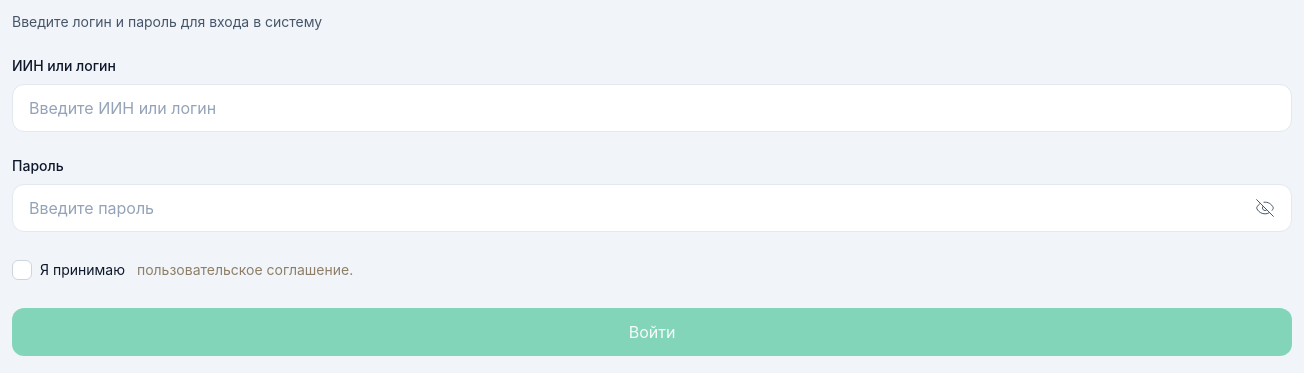
it: StaffSignInForm › FR-AUTH-22: sign-in button stays disabled until the agreement is accepted
Expected: the button "Войти" is disabled, top-left (12, 308), bottom-right (1292, 356)
Click the checkbox labelled "Я принимаю".
click(22, 270)  # box top-left (12, 260), bottom-right (32, 280)
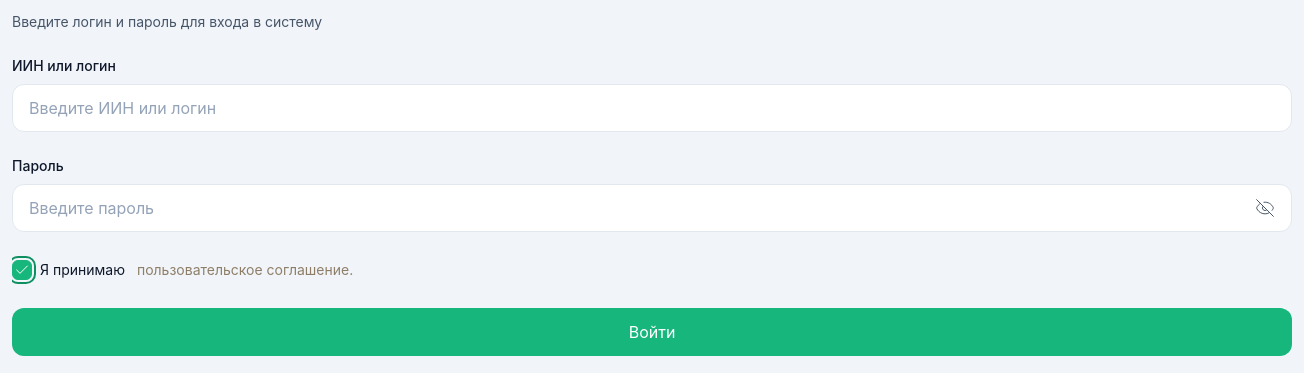
Result: the button "Войти" is enabled at top-left (12, 308), bottom-right (1292, 356)
